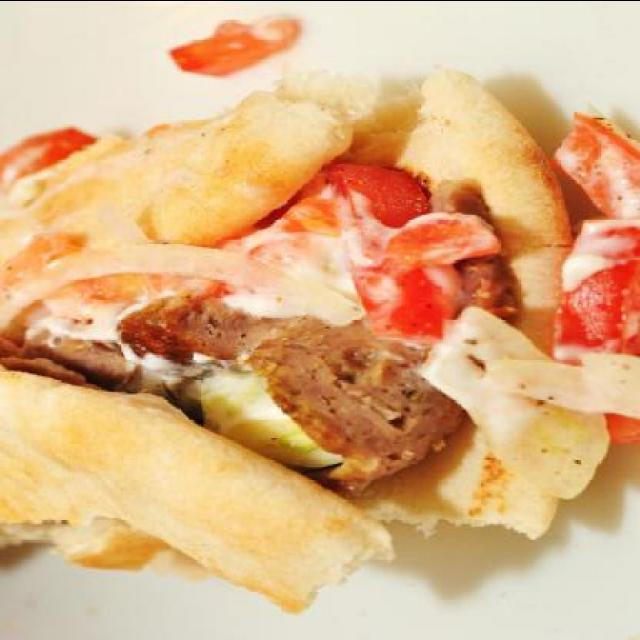Sandwich: (0, 65, 614, 612)
